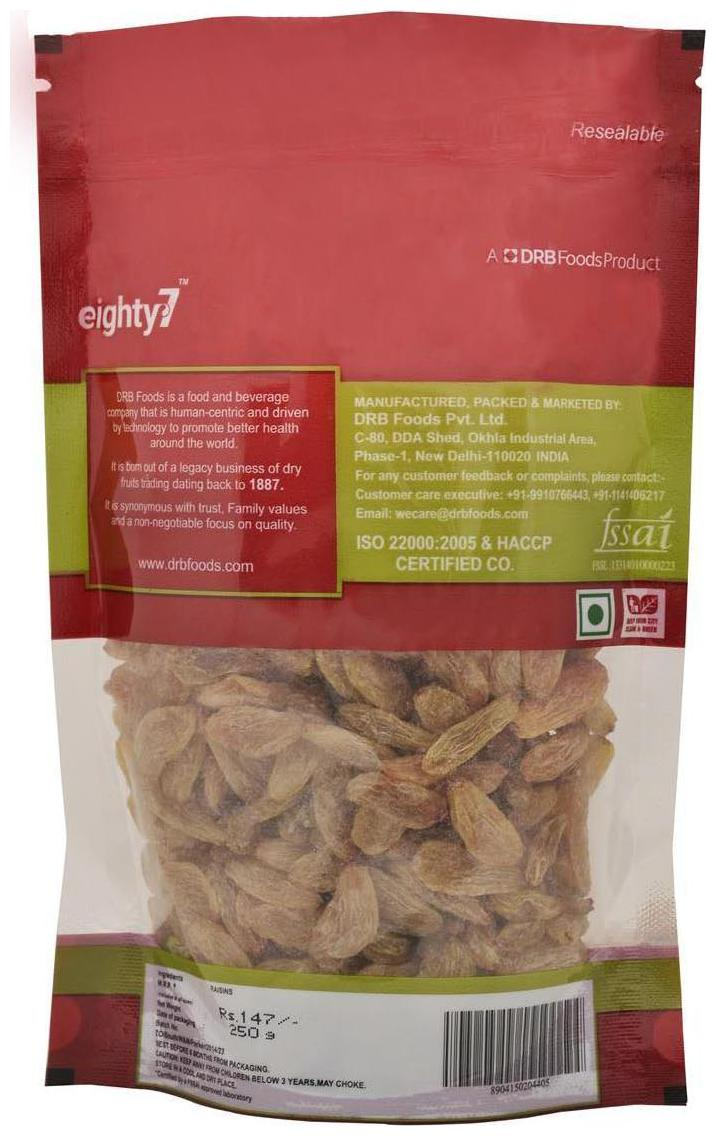fssai: (591, 505, 676, 553)
